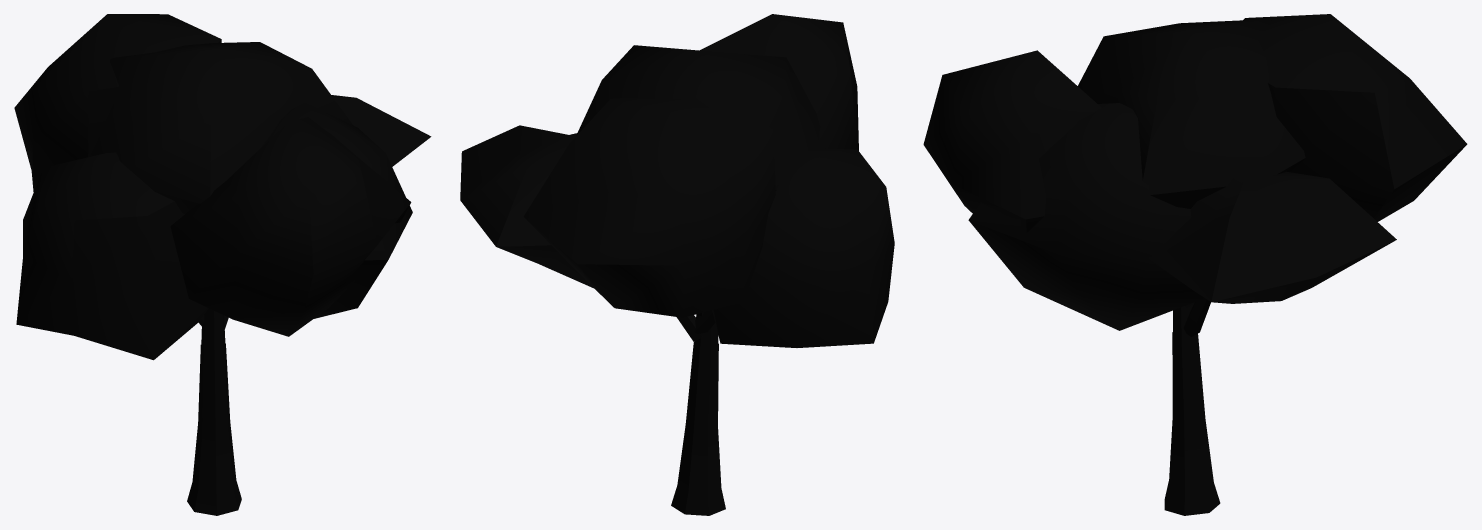
File: SM_oak_autumn.fbx
The picture shows the model from 3 angles, left to right: view 1: azimuth 30°, elevation 25°; view 2: azimuth 150°, elevation 25°; view 3: azimuth 270°, elevation 25°; orthographic projection. The views are drawn at different scales.
Parts seen in each view (by area): view 1: oak_autumn_crown, oak_autumn; view 2: oak_autumn_crown, oak_autumn; view 3: oak_autumn_crown, oak_autumn.
Part boxes in pixels (left/top/right/bottom): oak_autumn_crown: left=14, top=14, right=431, bottom=360; oak_autumn: left=187, top=343, right=241, bottom=515; oak_autumn_crown: left=460, top=14, right=894, bottom=347; oak_autumn: left=671, top=342, right=725, bottom=515; oak_autumn_crown: left=923, top=14, right=1467, bottom=339; oak_autumn: left=1164, top=332, right=1220, bottom=515.
Bounding box in the file's own units: 7.09 × 7.44 × 7.75.
